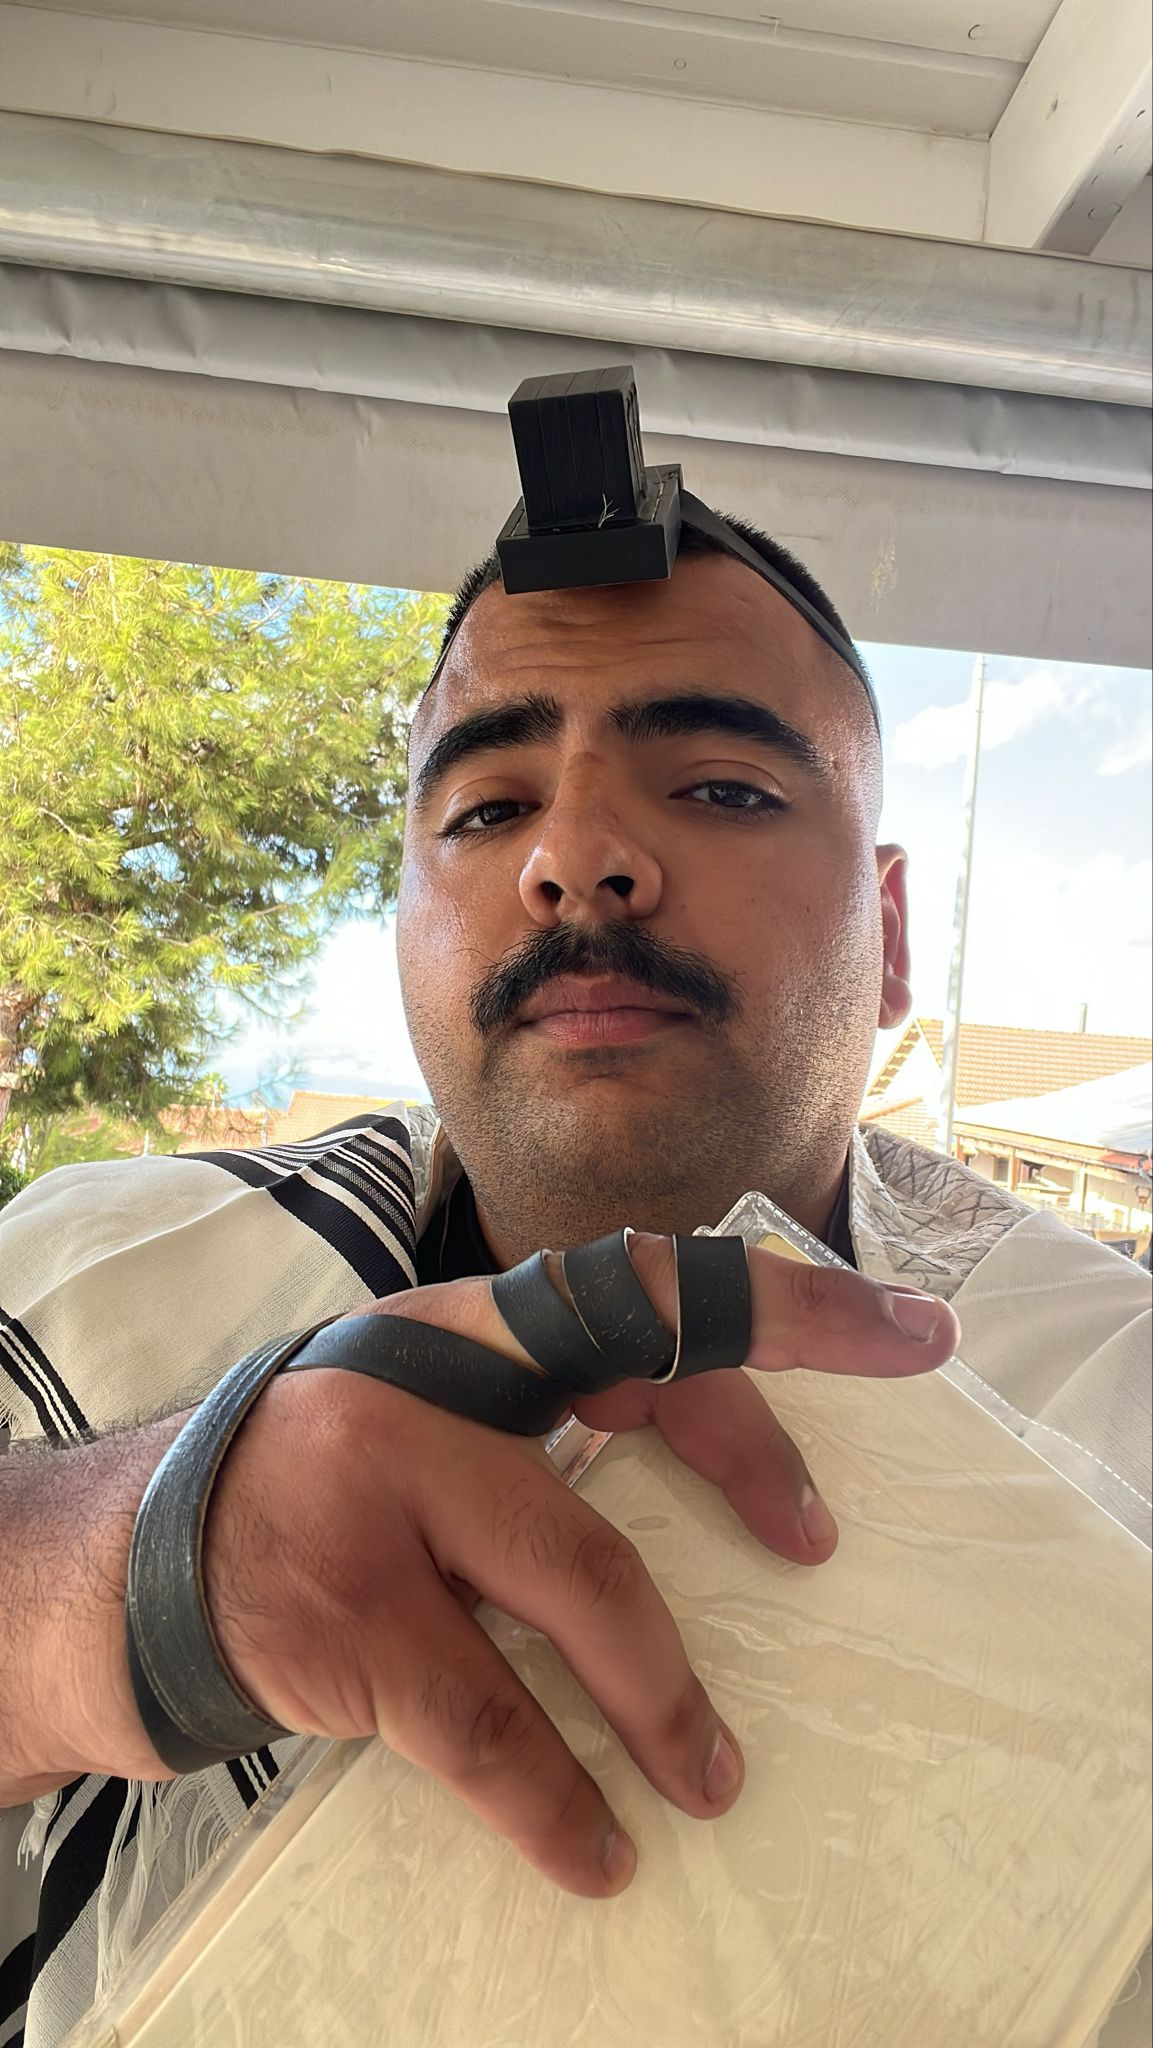tefillin: (491, 364, 681, 595)
